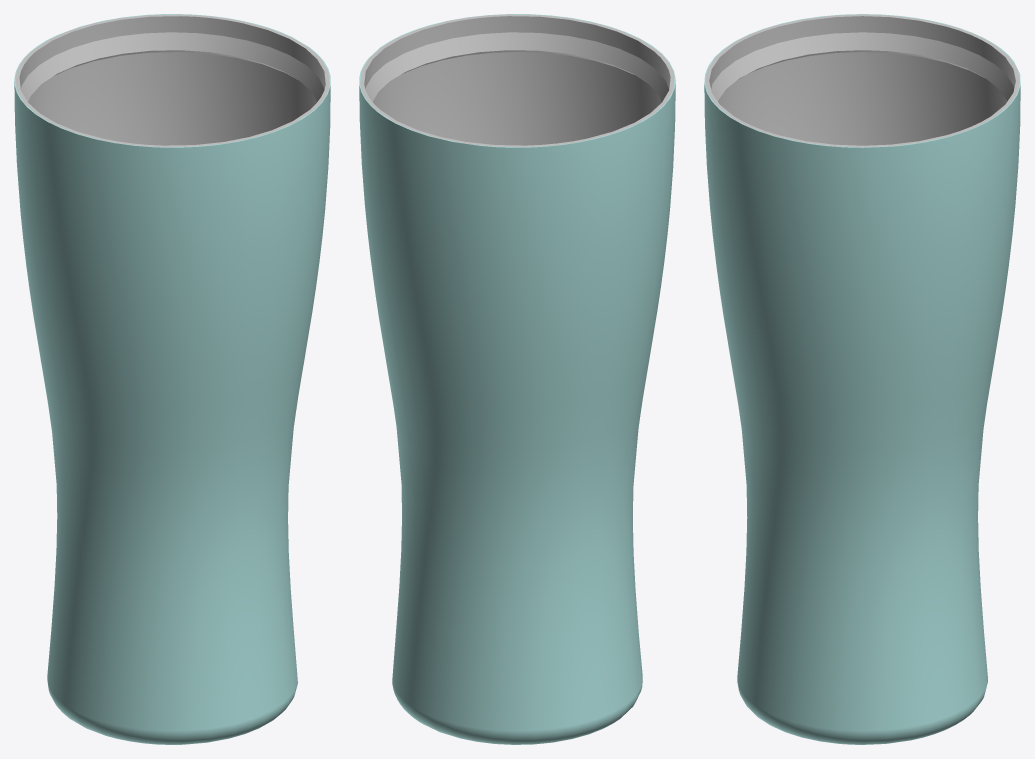
Rendered from 298_ステンレスタンブラー.glb.
The picture shows the model from 3 angles, left to right: view 1: azimuth 30°, elevation 25°; view 2: azimuth 150°, elevation 25°; view 3: azimuth 270°, elevation 25°; orthographic projection.
Parts seen in each view (by area): view 1: Body1; view 2: Body1; view 3: Body1.
Part boxes in pixels (x1,y1,x2,y2): Body1: (14, 14, 330, 744); Body1: (359, 14, 675, 744); Body1: (704, 14, 1020, 744).
Size of the model in its own units: 0.0762 by 0.1642 by 0.0761.
